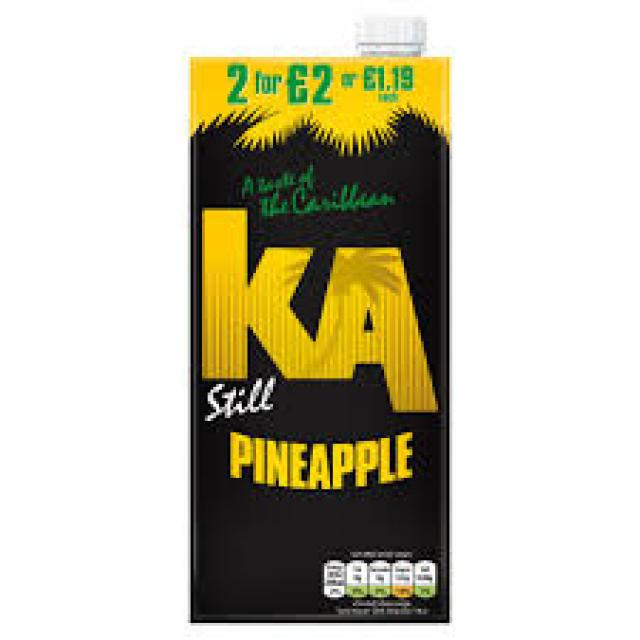non_white_jug: (151, 13, 478, 633)
